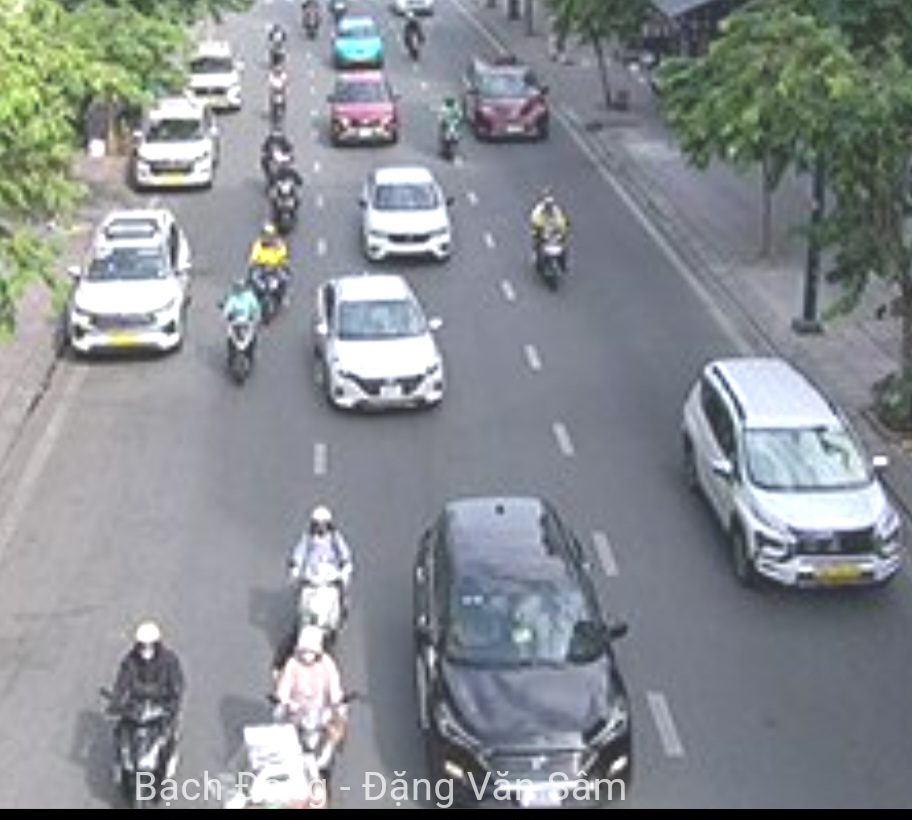car: (403, 499, 637, 796), (680, 355, 905, 583), (69, 211, 201, 360), (313, 272, 451, 414), (357, 169, 458, 258), (462, 51, 554, 144), (131, 97, 218, 187), (328, 74, 397, 145), (183, 41, 242, 108), (327, 16, 386, 69)
